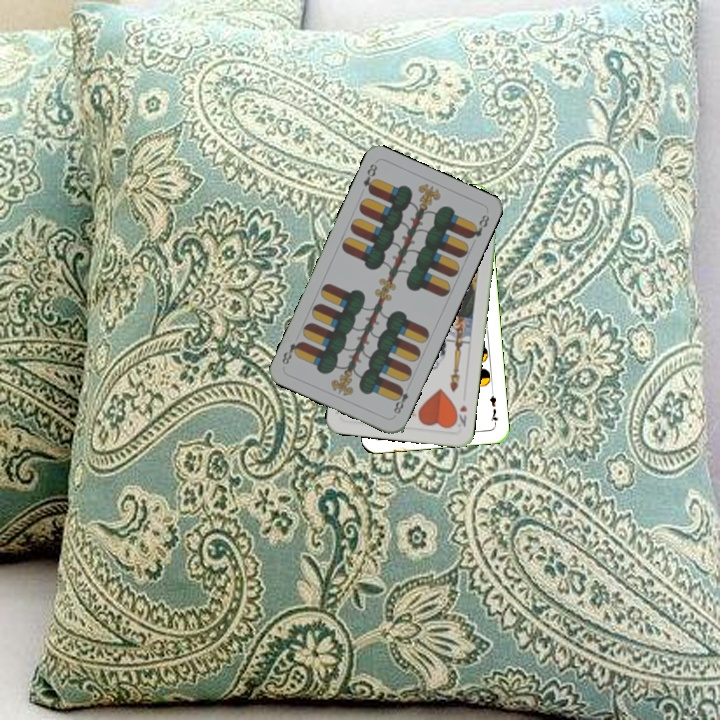E7: (486, 387, 500, 427)
E8: (359, 159, 380, 196), (389, 383, 411, 417)
HK: (450, 401, 470, 431)
